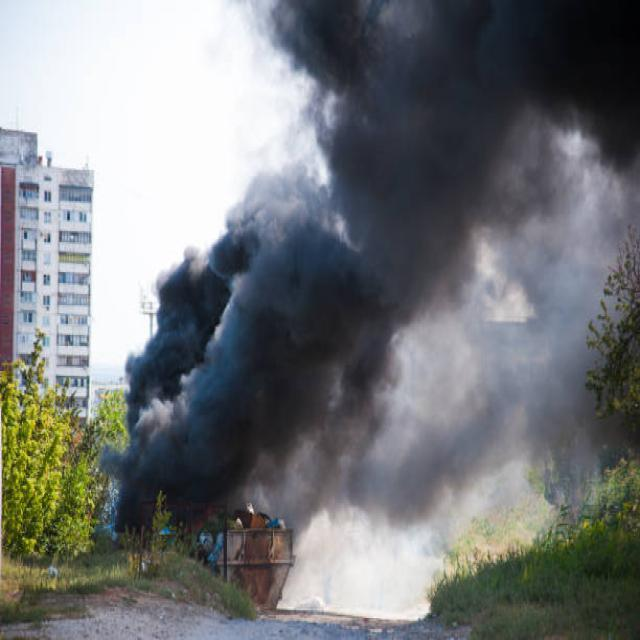Smoke: (274, 5, 640, 252), (188, 256, 562, 474), (110, 384, 226, 496)
